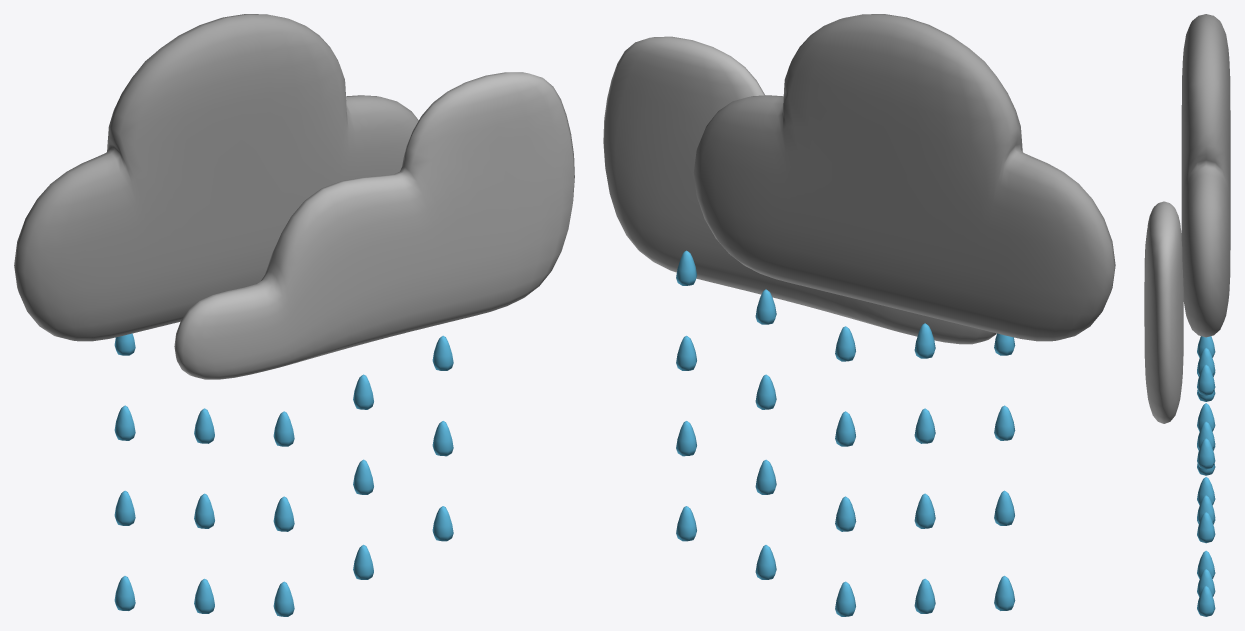
File: raining-day.glb
3 views of the same model, side by side, from view 1: azimuth 30°, elevation 25°; view 2: azimuth 150°, elevation 25°; view 3: azimuth 270°, elevation 25° (orthographic). The views are drawn at different scales.
Visible parts, largest first — view 1: Cube.093, Cube.092, Cube.095; view 2: Cube.093, Cube.092, Cube.095; view 3: Cube.093, Cube.092, Cube.095.
Part boxes in pixels (x1=…): Cube.093: x1=14, y1=14, x2=418, y2=341; Cube.092: x1=174, y1=72, x2=574, y2=379; Cube.095: x1=114, y1=333, x2=453, y2=616; Cube.093: x1=693, y1=14, x2=1115, y2=341; Cube.092: x1=603, y1=36, x2=996, y2=344; Cube.095: x1=676, y1=250, x2=1015, y2=616; Cube.093: x1=1181, y1=14, x2=1230, y2=337; Cube.092: x1=1144, y1=201, x2=1183, y2=423; Cube.095: x1=1197, y1=336, x2=1215, y2=616.
Size of the model in its own units: 14.25 by 15.58 by 2.29.
